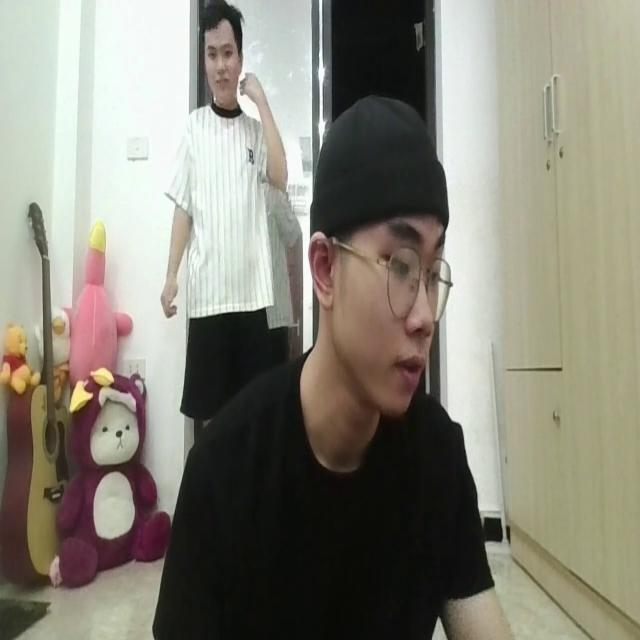extra_person: (158, 11, 283, 360)
student: (130, 138, 506, 640)
